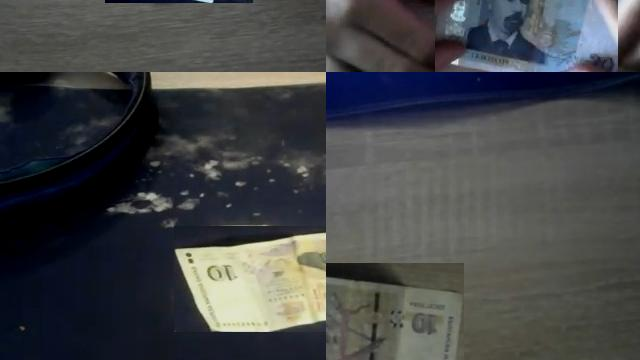10leva: (174, 230, 326, 332), (326, 274, 464, 360)
20leva: (435, 0, 618, 72)
